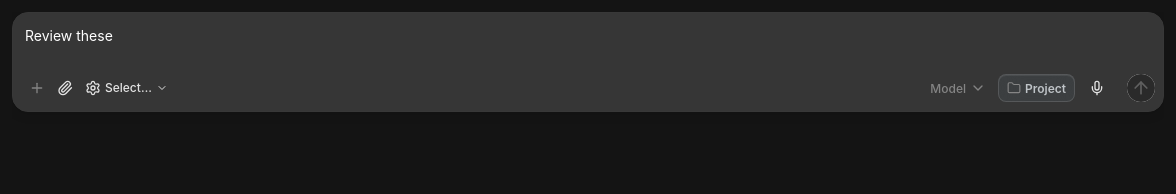
Test: composer attach button › starts another chat from its own batch without reopening the picker
Click the button named "Attach files" at coordinates (65, 88), box [53,74,77,102]
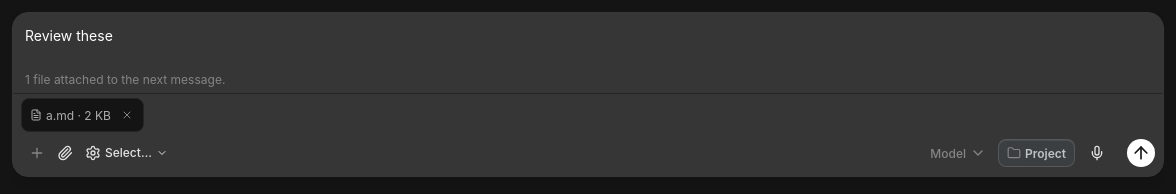
Expected: the text "a.md · 2 KB" is shown, [46,108,111,122]
